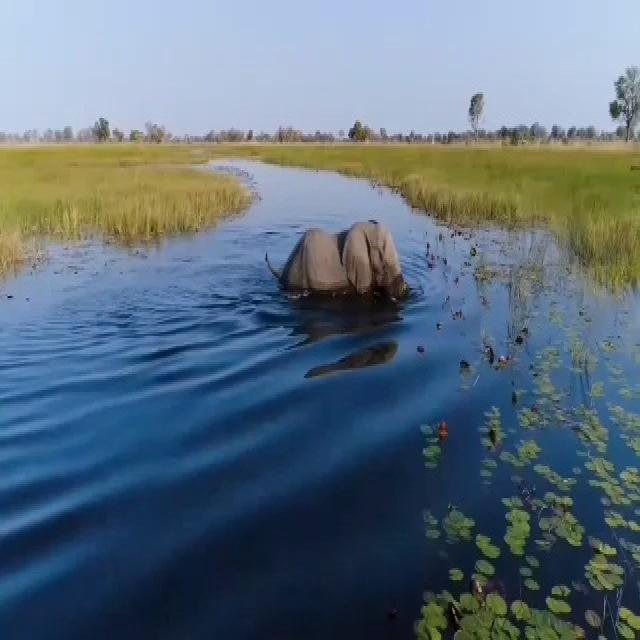Elephant: (260, 220, 412, 302)
